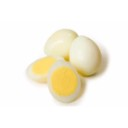begg: (26, 57, 80, 101), (43, 29, 80, 55)
